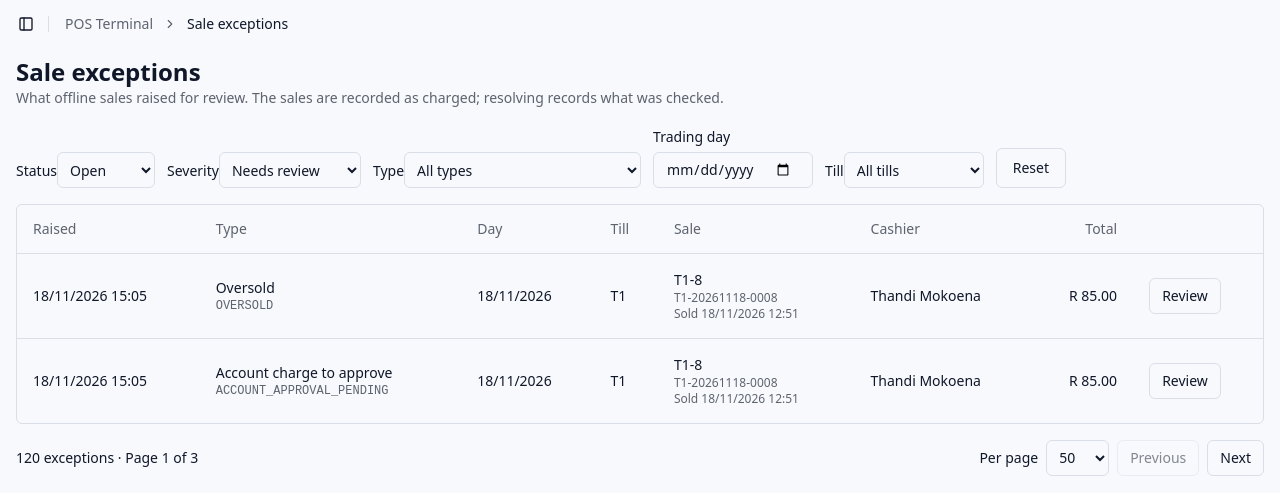
Test: the list › pages through totalItems, up to 200 a page
Check: the text "120 exceptions · Page 1 of 3" is shown, box [16, 448, 198, 468]
Click the button "Next". click: (1236, 458)
box: [1207, 440, 1264, 476]
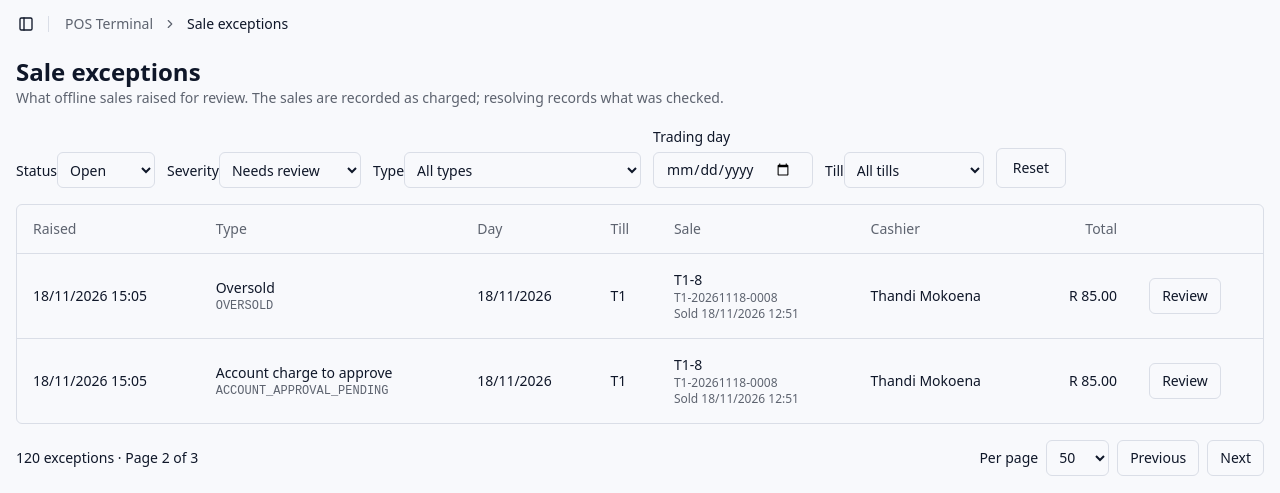
Select "200" in the dropdown labelled "Per page". click: (1078, 458)
box: [1046, 440, 1109, 476]
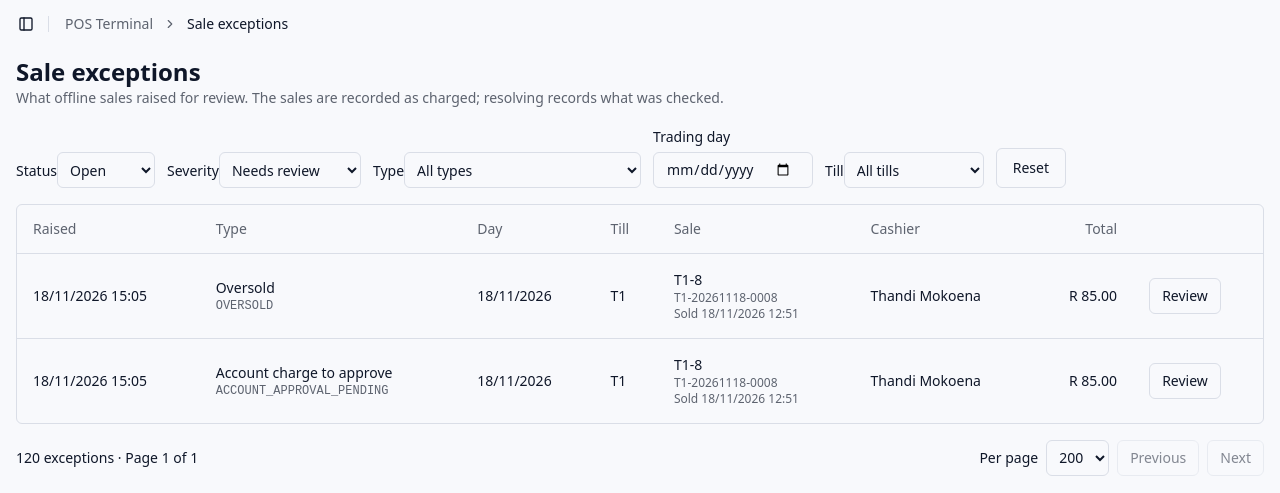
Check: the text "120 exceptions · Page 1 of 1" is shown, box [16, 448, 198, 468]
